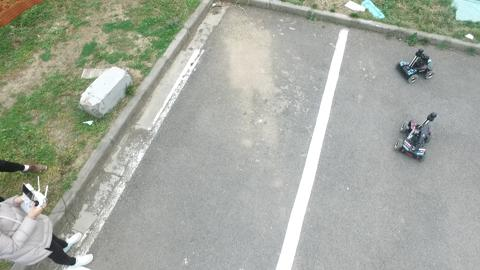chariot: (389, 110, 443, 162), (393, 46, 440, 85)
